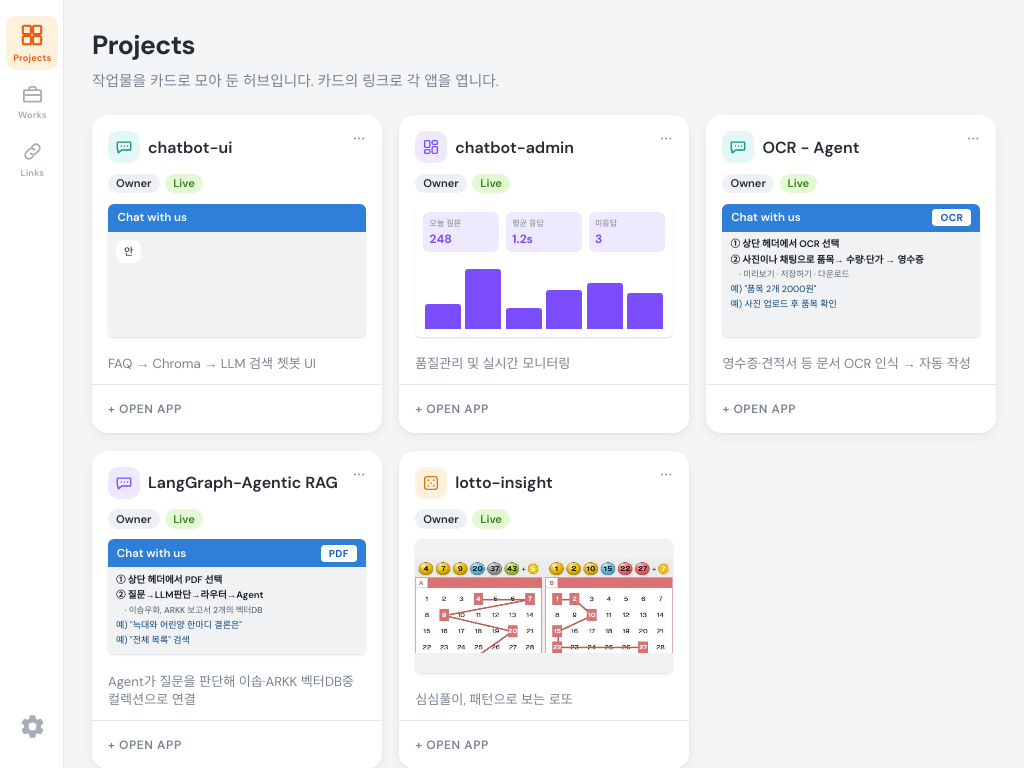
사이드 네비 · Works · Links › Links로 전환된다
What coordinates should you click on to do the following:
click the button "Links"
I would click on:
 (32, 159)
Its box is x1=6 y1=133 x2=58 y2=185.
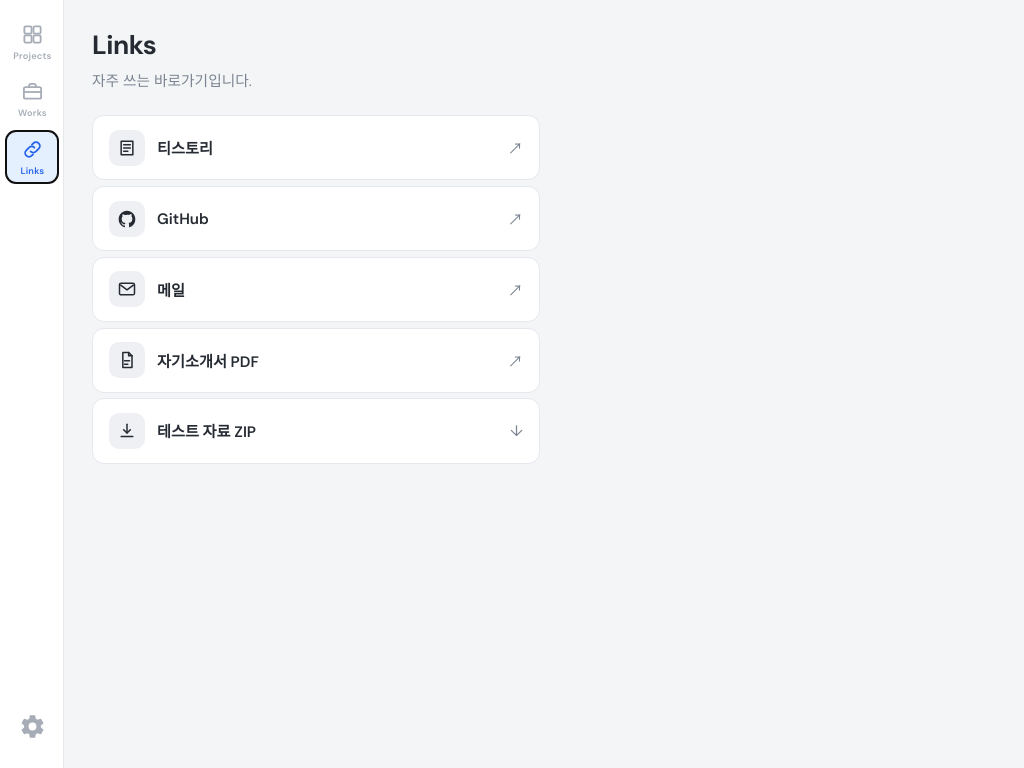
Expected: the heading "Links" is shown, x1=92 y1=28 x2=156 y2=62
